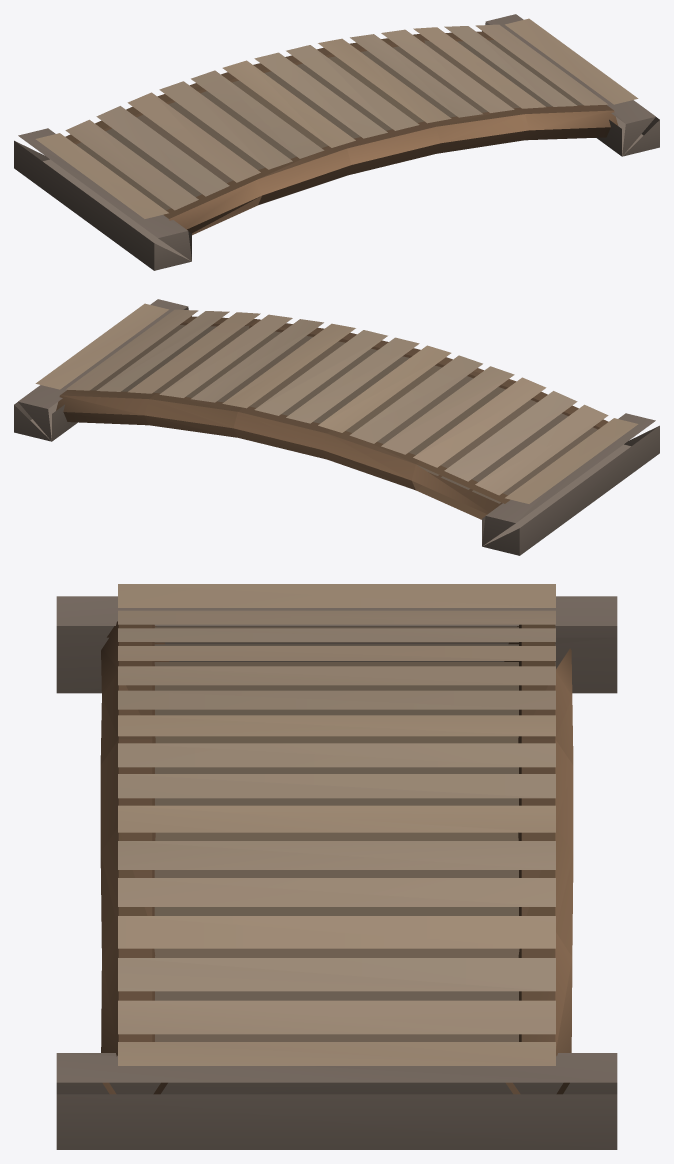
The model's file is footbridge.lod.glb.
3 renders of one model, top to bottom at view 1: azimuth 30°, elevation 25°; view 2: azimuth 150°, elevation 25°; view 3: azimuth 270°, elevation 25°, orthographic. The views are drawn at different scales.
Parts seen in each view (by area): view 1: footbridge; view 2: footbridge; view 3: footbridge.
Part boxes in pixels (x1,y1,x2,y2): footbridge: (14, 14, 659, 270); footbridge: (14, 299, 659, 555); footbridge: (56, 584, 617, 1149).
Size of the model in its own units: 7.2 by 0.9 by 3.46.
